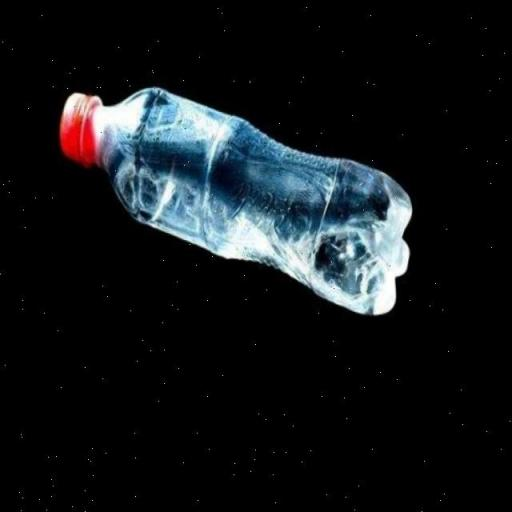plastic: (53, 69, 421, 326)
